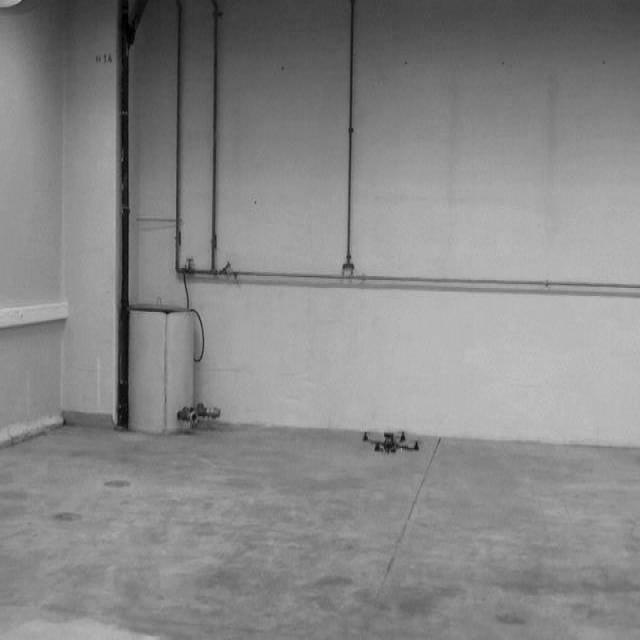Drone_FW: (357, 427, 424, 458)
